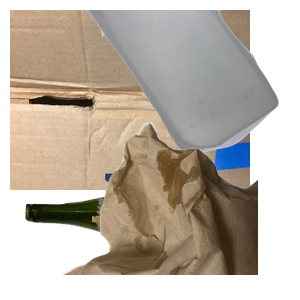cardboard: (10, 10, 250, 190)
glass: (23, 186, 249, 300)
plastic: (84, 10, 300, 157)
trash: (60, 120, 300, 300)
